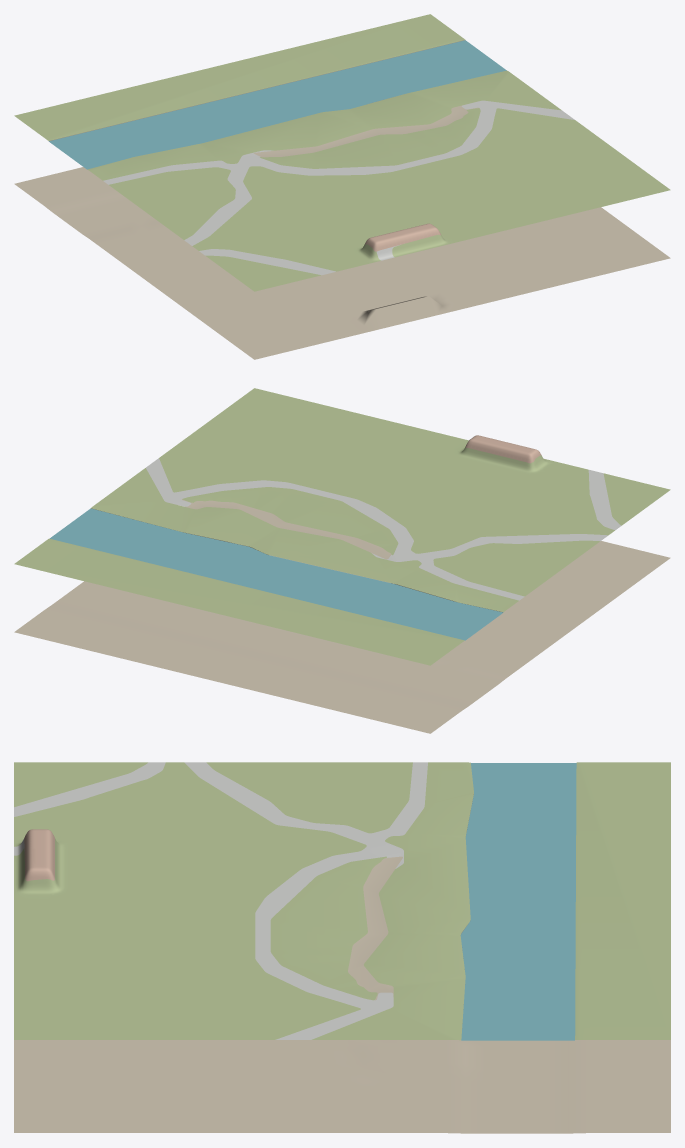
3 views of the same model, one above another, from view 1: azimuth 30°, elevation 25°; view 2: azimuth 150°, elevation 25°; view 3: azimuth 270°, elevation 25° (orthographic). The views are drawn at different scales.
Parts seen in each view (by area): view 1: s_-6_-7__grass, s_-6_-7__soil, s_-6_-7__water, s_-6_-7__stone_paving, s_-6_-7__brick_paving; view 2: s_-6_-7__grass, s_-6_-7__soil, s_-6_-7__water, s_-6_-7__stone_paving, s_-6_-7__brick_paving; view 3: s_-6_-7__grass, s_-6_-7__soil, s_-6_-7__water, s_-6_-7__stone_paving, s_-6_-7__brick_paving.
Part boxes in pixels (x1=…): s_-6_-7__grass: x1=14, y1=14, x2=670, y2=291; s_-6_-7__soil: x1=14, y1=105, x2=670, y2=359; s_-6_-7__water: x1=49, y1=40, x2=506, y2=169; s_-6_-7__stone_paving: x1=103, y1=100, x2=574, y2=275; s_-6_-7__brick_paving: x1=365, y1=223, x2=440, y2=251; s_-6_-7__grass: x1=14, y1=388, x2=670, y2=665; s_-6_-7__soil: x1=14, y1=499, x2=670, y2=733; s_-6_-7__water: x1=50, y1=508, x2=503, y2=640; s_-6_-7__stone_paving: x1=146, y1=458, x2=621, y2=600; s_-6_-7__brick_paving: x1=465, y1=435, x2=541, y2=463; s_-6_-7__grass: x1=14, y1=762, x2=670, y2=1040; s_-6_-7__soil: x1=14, y1=856, x2=670, y2=1133; s_-6_-7__water: x1=460, y1=763, x2=576, y2=1040; s_-6_-7__stone_paving: x1=14, y1=762, x2=427, y2=1039; s_-6_-7__brick_paving: x1=24, y1=829, x2=54, y2=881.
Size of the model in its own units: 128 by 24.14 by 128.
